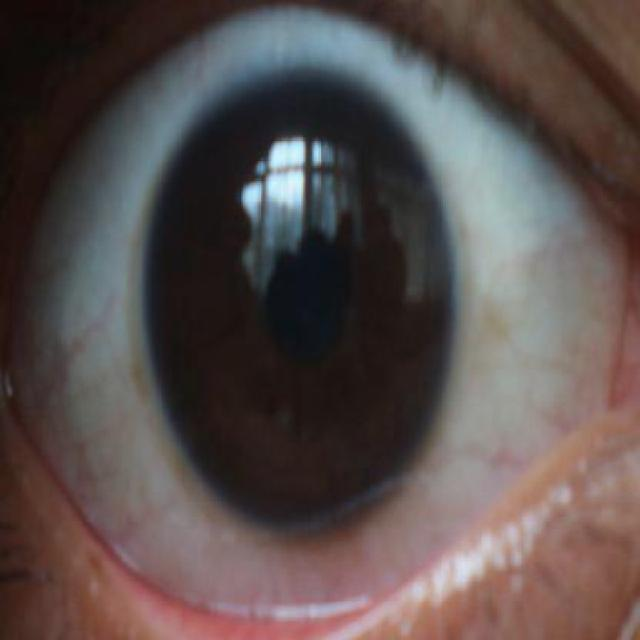Normal: (139, 69, 462, 535)
